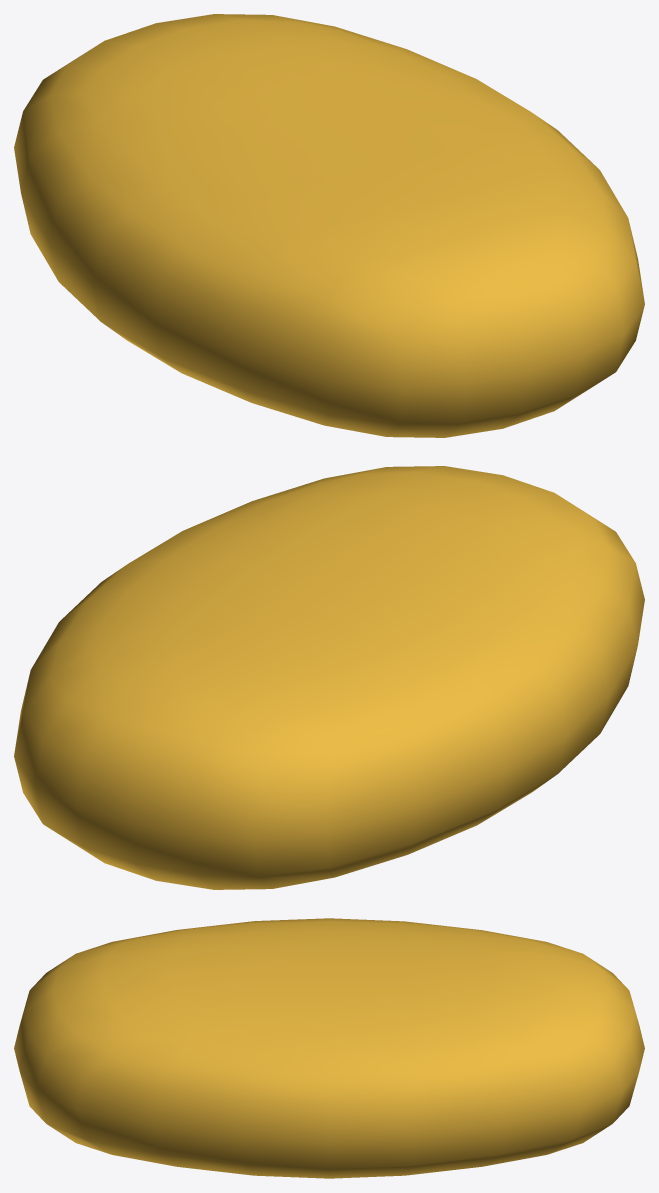
Rendered from koroke.fbx.
The picture shows the model from 3 angles, top to bottom: view 1: azimuth 30°, elevation 25°; view 2: azimuth 150°, elevation 25°; view 3: azimuth 270°, elevation 25°; orthographic projection. The views are drawn at different scales.
Parts seen in each view (by area): view 1: pCube1; view 2: pCube1; view 3: pCube1.
Part boxes in pixels (x1,y1,x2,y2): pCube1: [14, 14, 644, 437]; pCube1: [14, 466, 644, 889]; pCube1: [14, 918, 644, 1178].
Bounding box in the file's own units: 1.19 × 0.4719 × 1.73.
